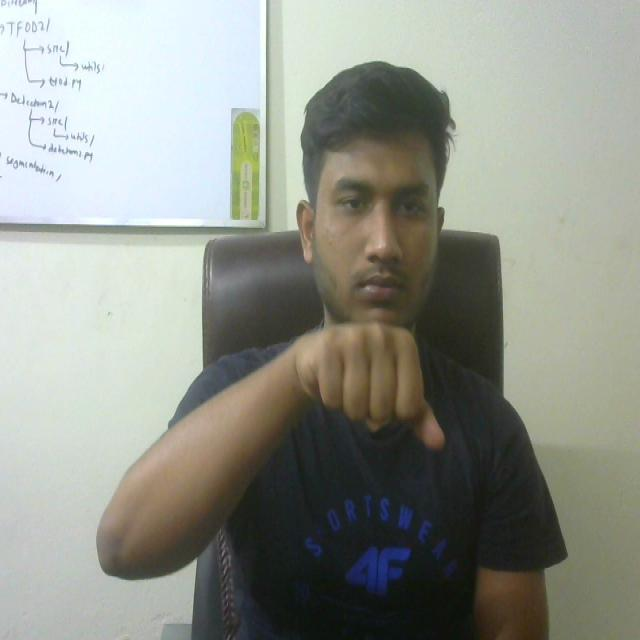Yes: (278, 296, 455, 478)
